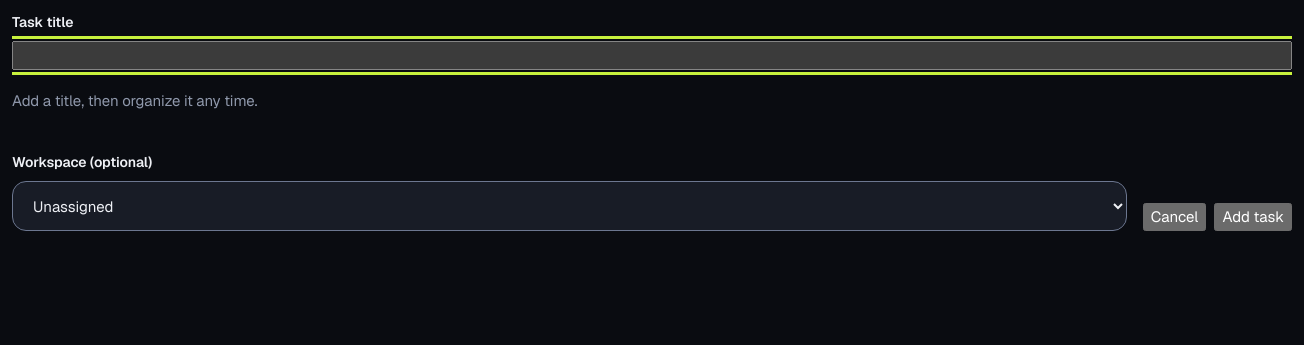
Scenario: HomeTaskCapture › retains an unknown request and retries with the same workspace and idempotency key
Type "Send the draft" into the field labelled "Task title". click: (652, 55)
box: [12, 41, 1292, 70]
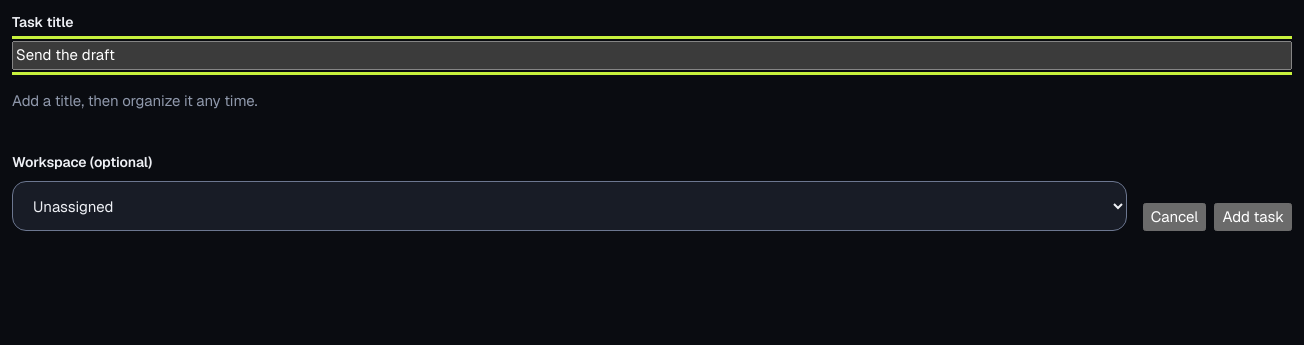
Select "Studio refresh" in the dropdown labelled "Workspace (optional)". click: (569, 206)
box: [12, 181, 1127, 231]
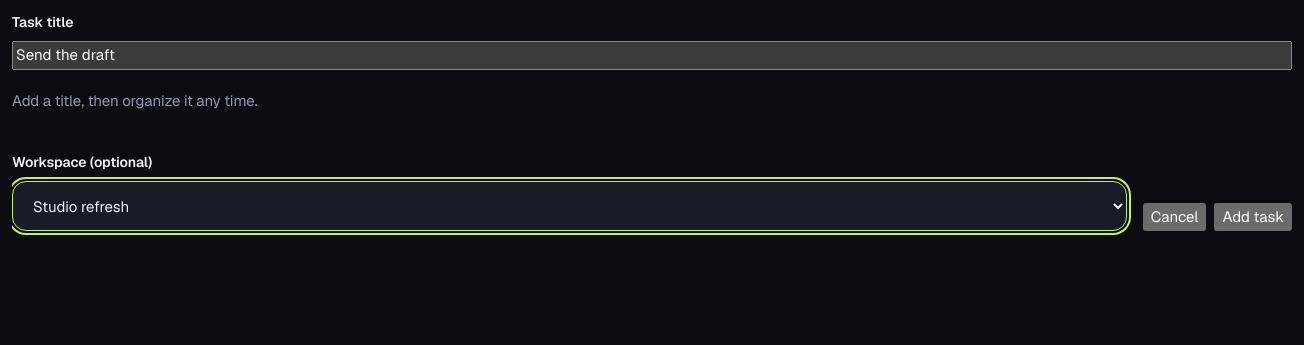
Click the button "Add task". click: (1253, 217)
box: [1214, 202, 1292, 231]
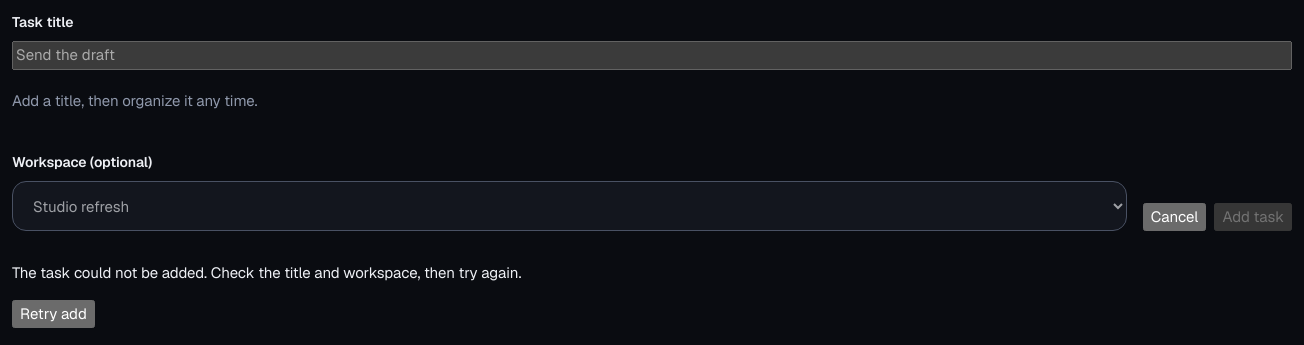
Expected: the message with test id "home-task-capture-error" is shown, [12, 263, 521, 328]
Expected: the field labelled "Task title" is disabled, [12, 41, 1292, 70]
Click the button with test id "home-task-capture-retry". click: (53, 314)
box: [12, 300, 95, 328]
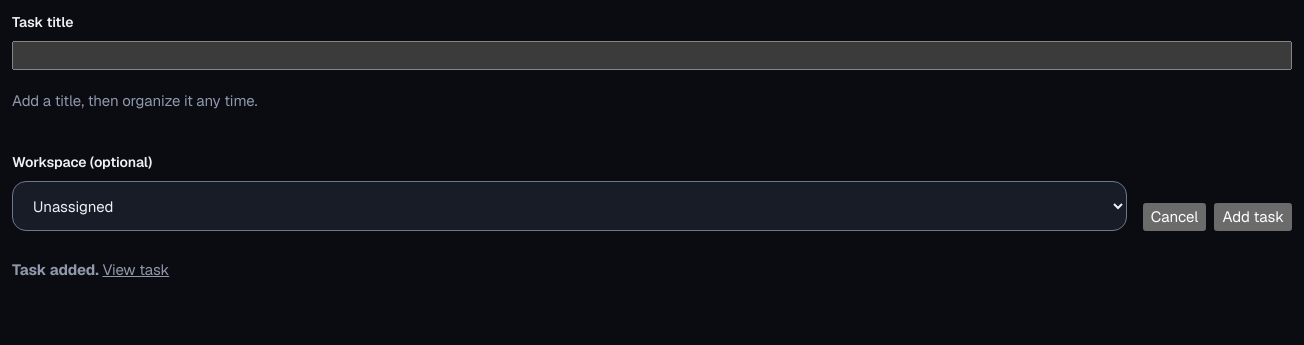
Expected: the element with test id "home-task-capture-success" is shown, [12, 260, 169, 279]
